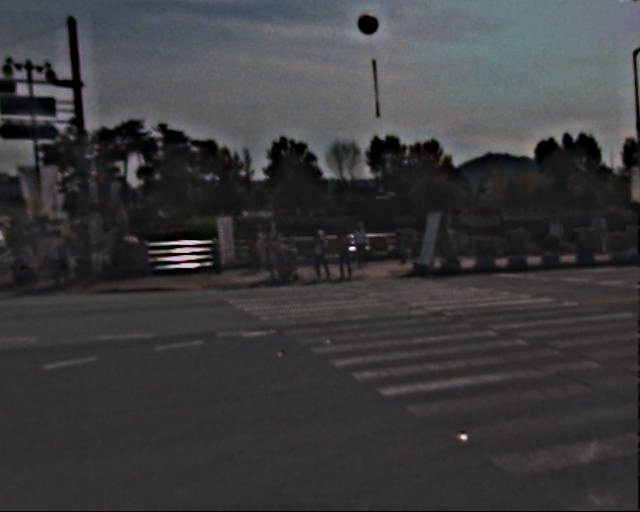person: (6, 214, 45, 287), (48, 224, 86, 284), (74, 222, 106, 283), (263, 220, 288, 282), (310, 228, 333, 283), (337, 226, 360, 281), (249, 224, 270, 274), (353, 219, 373, 268)
